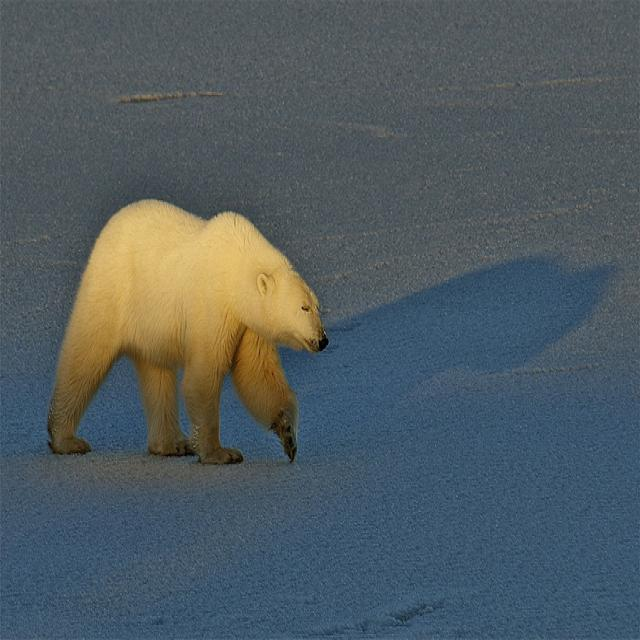Bear: (40, 192, 335, 472)
